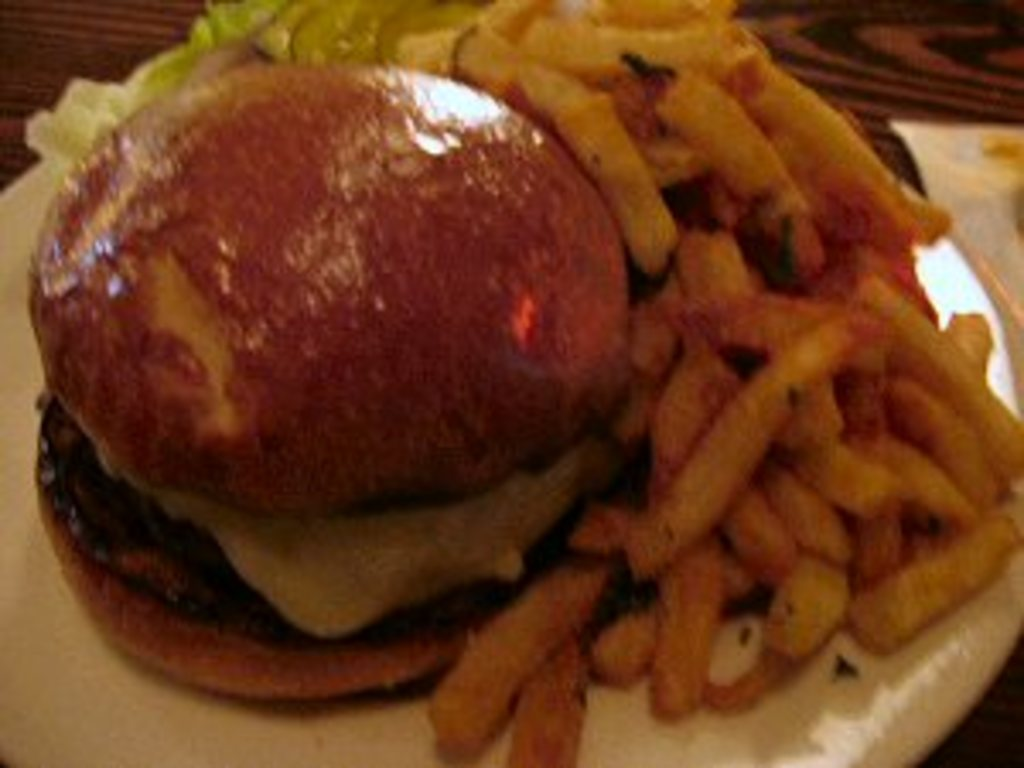French fries: (419, 0, 1020, 764)
